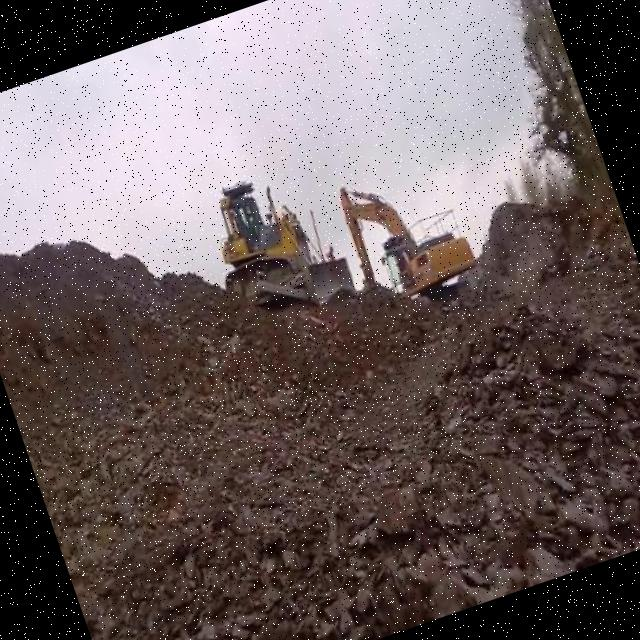Excavator: (329, 151, 484, 318)
